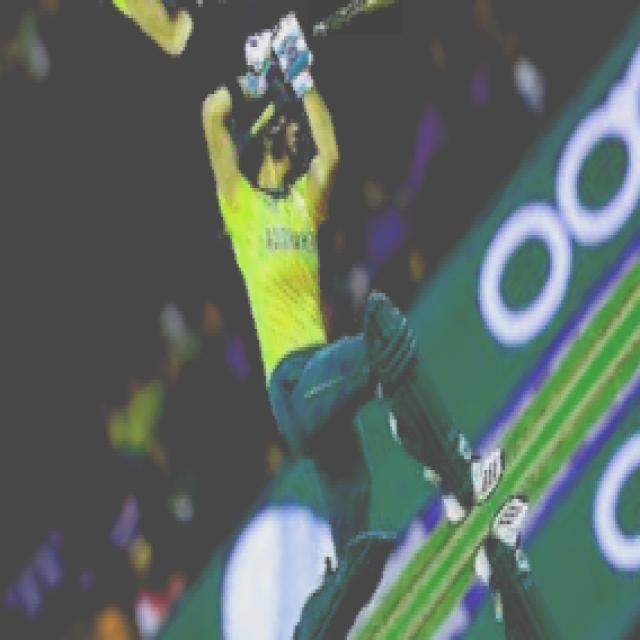bat: (314, 0, 408, 58)
